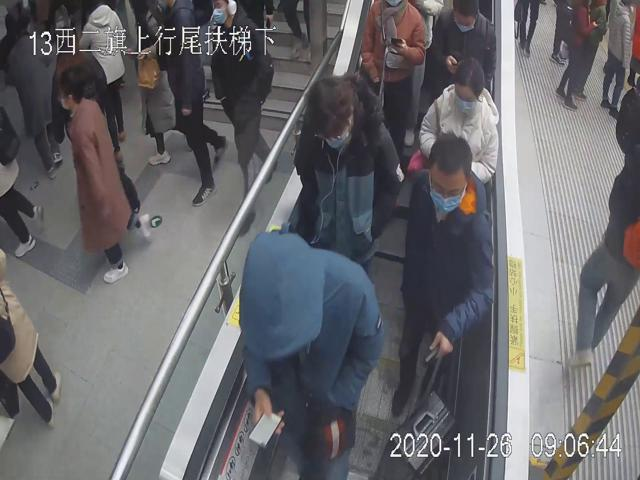person: (240, 232, 385, 480), (390, 132, 494, 418), (293, 72, 403, 260), (56, 64, 131, 284), (403, 55, 499, 190), (426, 0, 497, 96)
